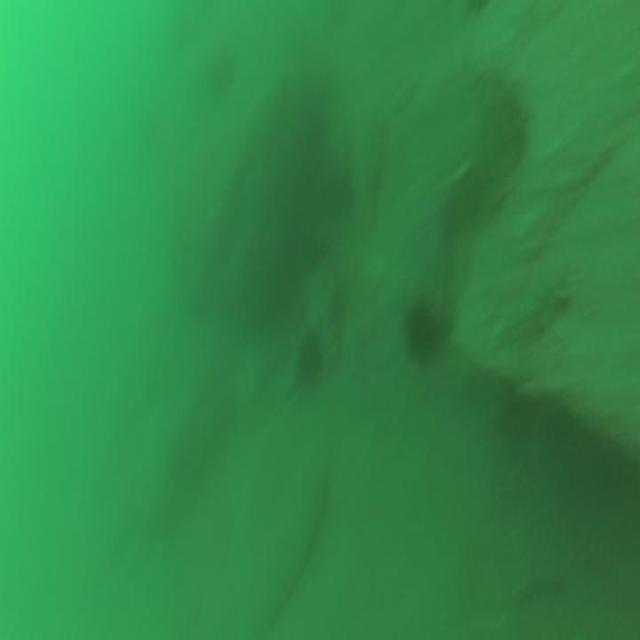echinus: (399, 283, 445, 365)
holothurian: (497, 254, 573, 351)
